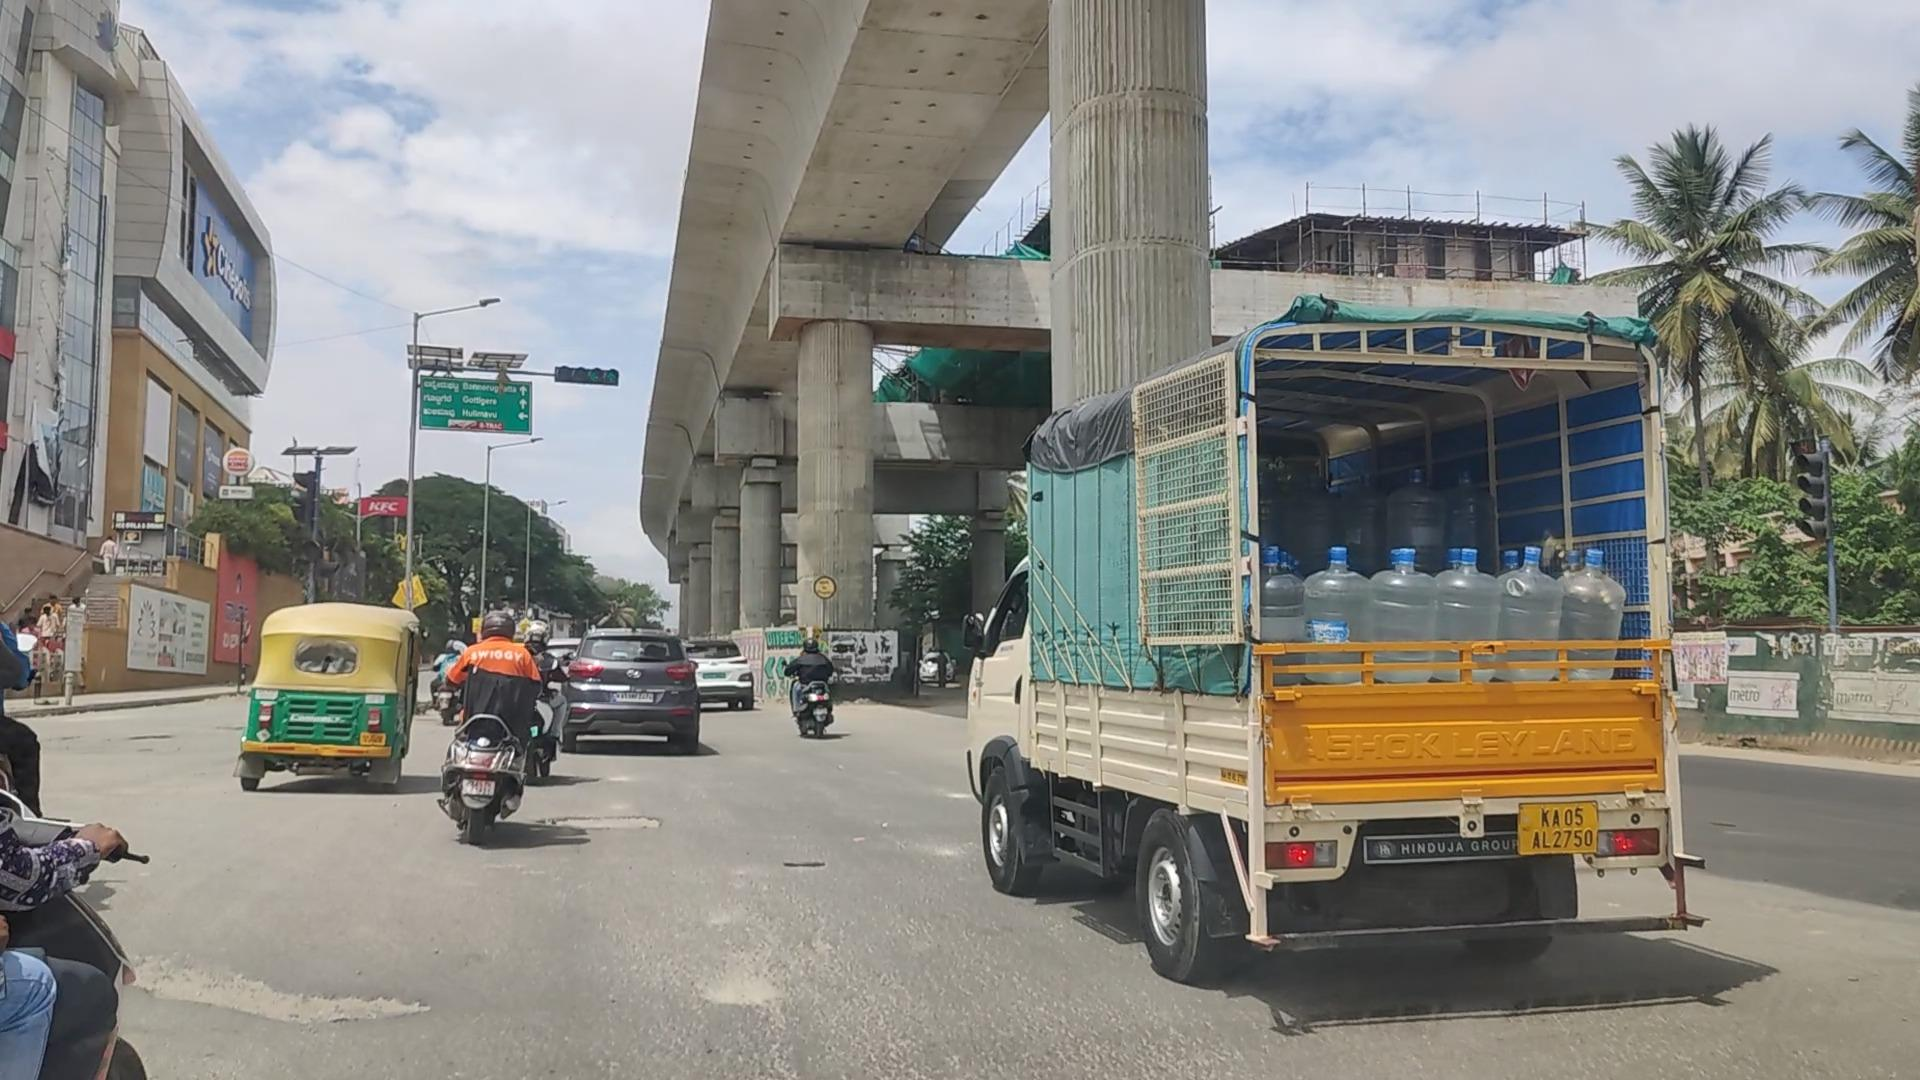HMV: (968, 269, 1704, 1001)
LMV: (251, 608, 415, 774), (462, 597, 558, 861)
RoadDamages: (129, 928, 439, 1033)
